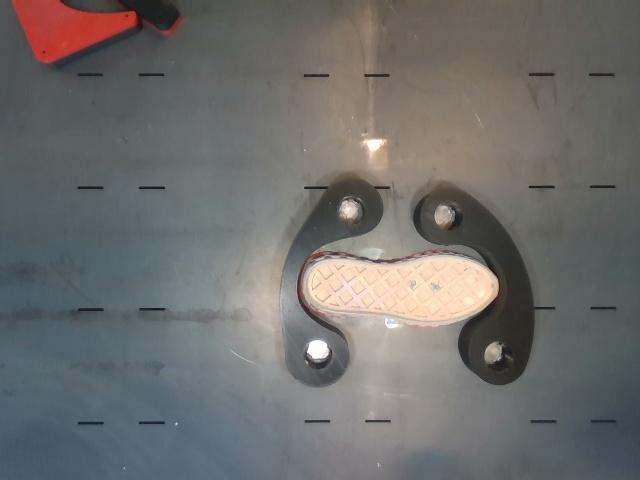shoes: (305, 256, 497, 322)
